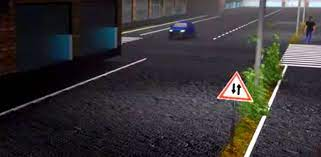1.19.1: (213, 71, 254, 103)
